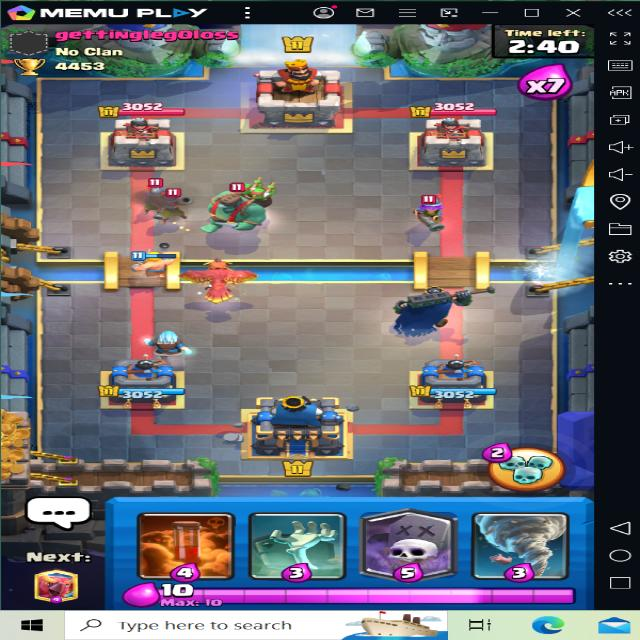goblin-giant: (200, 177, 280, 235)
musketeer: (405, 189, 459, 231), (140, 180, 197, 218), (156, 187, 203, 228)
